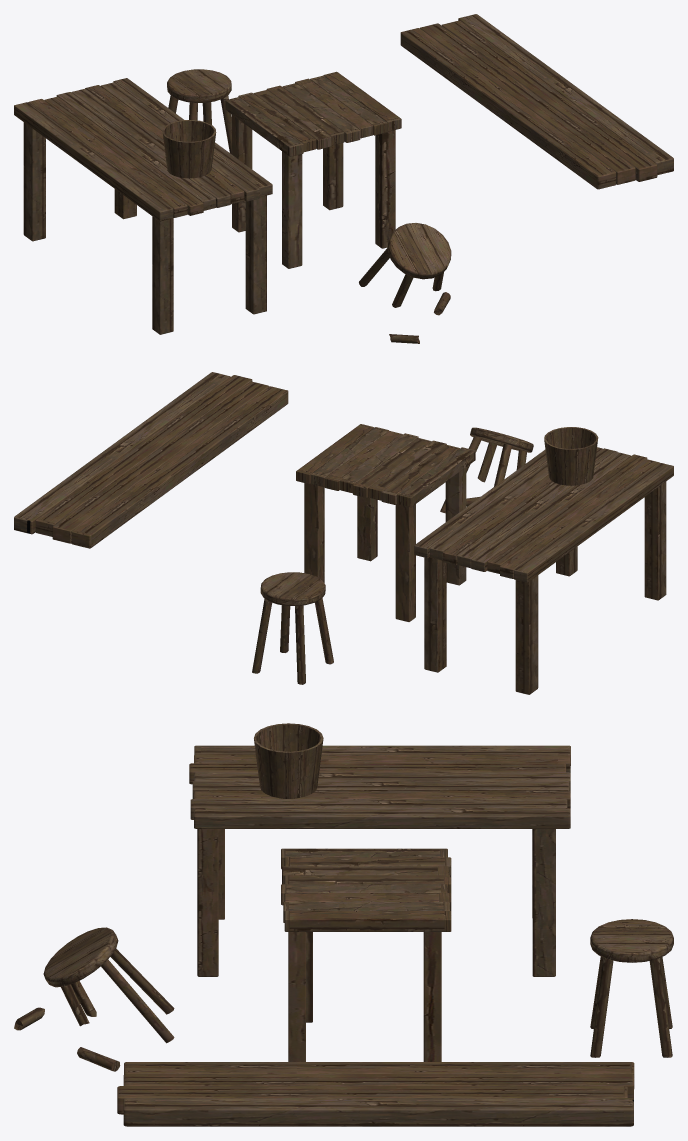
Rendered from woodStaff.fbx.
The picture shows the model from 3 angles, top to bottom: view 1: azimuth 30°, elevation 25°; view 2: azimuth 150°, elevation 25°; view 3: azimuth 270°, elevation 25°; orthographic projection. The views are drawn at different scales.
Visible parts, largest first — view 1: Table_Top (×2), Wood_Seat, Leg_3 (×2), Leg_2 (×2), Leg_4 (×2), Stool_A_Broken, Bucket, Stool_A, Leg_1; view 2: Table_Top (×2), Wood_Seat, Leg_4 (×2), Leg_1 (×2), Stool_A, Leg_3 (×2), Bucket, Stool_A_Broken, Leg_2; view 3: Table_Top (×2), Wood_Seat, Leg_1 (×2), Stool_A, Leg_2 (×2), Stool_A_Broken, Bucket, Leg_3 (×2).
Boxes of the visible parts, x1=… form: Table_Top (×2): x1=14, y1=71, x2=401, y2=221; Wood_Seat: x1=400, y1=14, x2=673, y2=189; Leg_3 (×2): x1=152, y1=151, x2=302, y2=334; Leg_2 (×2): x1=245, y1=130, x2=395, y2=314; Leg_4 (×2): x1=23, y1=115, x2=252, y2=241; Stool_A_Broken: x1=359, y1=223, x2=451, y2=307; Bucket: x1=162, y1=120, x2=216, y2=178; Stool_A: x1=167, y1=69, x2=231, y2=154; Leg_1: x1=323, y1=143, x2=343, y2=210; Table_Top (×2): x1=296, y1=424, x2=673, y2=582; Wood_Seat: x1=14, y1=372, x2=288, y2=548; Leg_4 (×2): x1=395, y1=504, x2=538, y2=694; Leg_1 (×2): x1=304, y1=483, x2=446, y2=672; Stool_A: x1=252, y1=572, x2=333, y2=684; Leg_3 (×2): x1=445, y1=467, x2=666, y2=600; Bucket: x1=544, y1=427, x2=598, y2=485; Stool_A_Broken: x1=440, y1=427, x2=533, y2=513; Leg_2: x1=357, y1=496, x2=377, y2=561; Table_Top (×2): x1=189, y1=745, x2=570, y2=931; Wood_Seat: x1=117, y1=1062, x2=634, y2=1126; Leg_1 (×2): x1=423, y1=829, x2=555, y2=1061; Stool_A: x1=590, y1=919, x2=673, y2=1057; Leg_2 (×2): x1=197, y1=829, x2=305, y2=1061; Stool_A_Broken: x1=43, y1=927, x2=174, y2=1043; Bucket: x1=254, y1=723, x2=323, y2=798; Leg_3 (×2): x1=218, y1=829, x2=312, y2=1022.
Bounding box in the file's own units: 2.3 × 2.09 × 0.7482.
